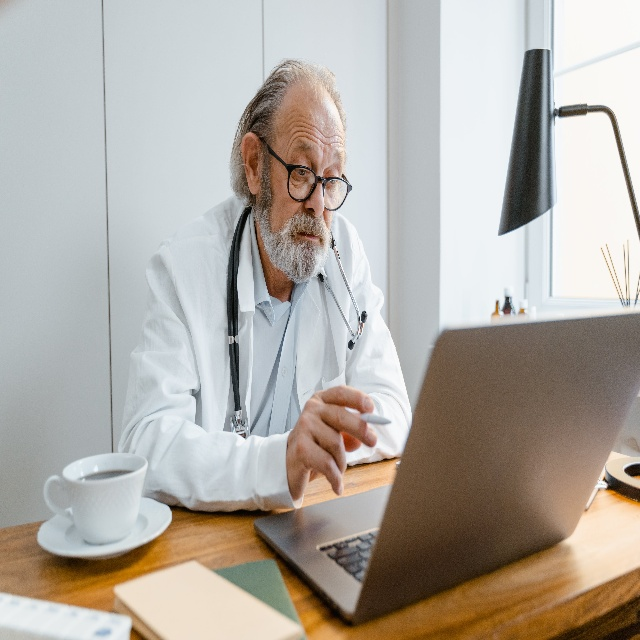Gafas: (257, 133, 353, 212)
Sin_guantes: (286, 384, 377, 502)
